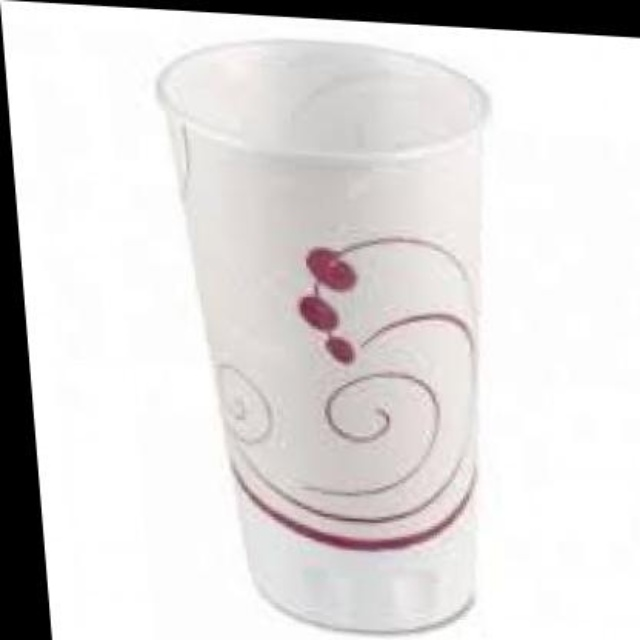trash: (158, 40, 485, 631)
